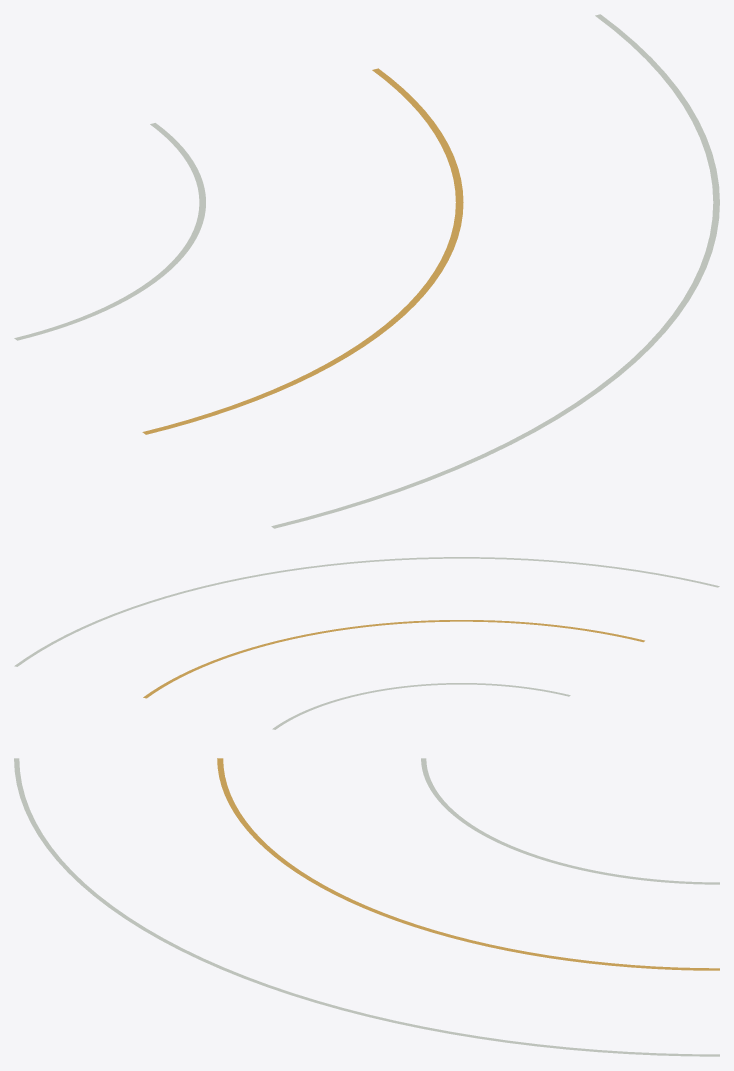
Rendered from RoadPlan_CurveMarking_2L_A90_R7.glb.
The picture shows the model from 3 angles, top to bottom: view 1: azimuth 30°, elevation 25°; view 2: azimuth 150°, elevation 25°; view 3: azimuth 270°, elevation 25°; orthographic projection. The views are drawn at different scales.
Visible parts, largest first — view 1: RoadPlan_CurveMarking_2L_A90_R7_EdgeRight, RoadPlan_CurveMarking_2L_A90_R7_Center, RoadPlan_CurveMarking_2L_A90_R7_EdgeLeft; view 2: RoadPlan_CurveMarking_2L_A90_R7_EdgeRight, RoadPlan_CurveMarking_2L_A90_R7_Center, RoadPlan_CurveMarking_2L_A90_R7_EdgeLeft; view 3: RoadPlan_CurveMarking_2L_A90_R7_EdgeRight, RoadPlan_CurveMarking_2L_A90_R7_Center, RoadPlan_CurveMarking_2L_A90_R7_EdgeLeft.
Boxes of the visible parts, x1,y1,x2,y2 form: RoadPlan_CurveMarking_2L_A90_R7_EdgeRight: (271, 14, 719, 528); RoadPlan_CurveMarking_2L_A90_R7_Center: (142, 68, 463, 434); RoadPlan_CurveMarking_2L_A90_R7_EdgeLeft: (14, 123, 205, 340); RoadPlan_CurveMarking_2L_A90_R7_EdgeRight: (14, 557, 719, 666); RoadPlan_CurveMarking_2L_A90_R7_Center: (143, 620, 644, 698); RoadPlan_CurveMarking_2L_A90_R7_EdgeLeft: (272, 683, 570, 729); RoadPlan_CurveMarking_2L_A90_R7_EdgeRight: (14, 758, 719, 1056); RoadPlan_CurveMarking_2L_A90_R7_Center: (217, 758, 719, 970); RoadPlan_CurveMarking_2L_A90_R7_EdgeLeft: (421, 758, 719, 884).
Size of the model in its own units: 9.89 by 0 by 9.89.
